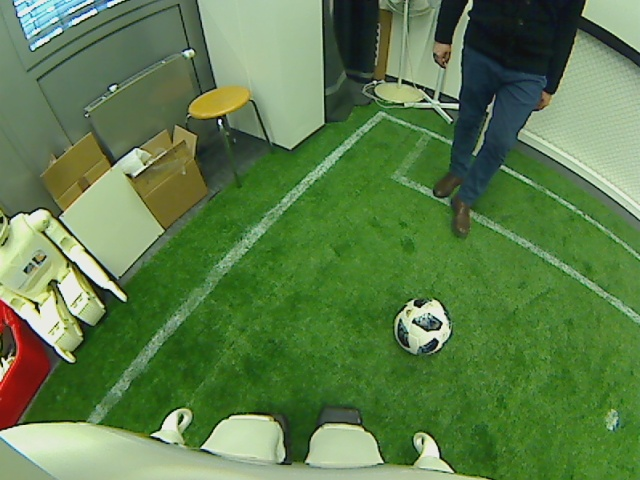ball: (393, 293, 452, 358)
